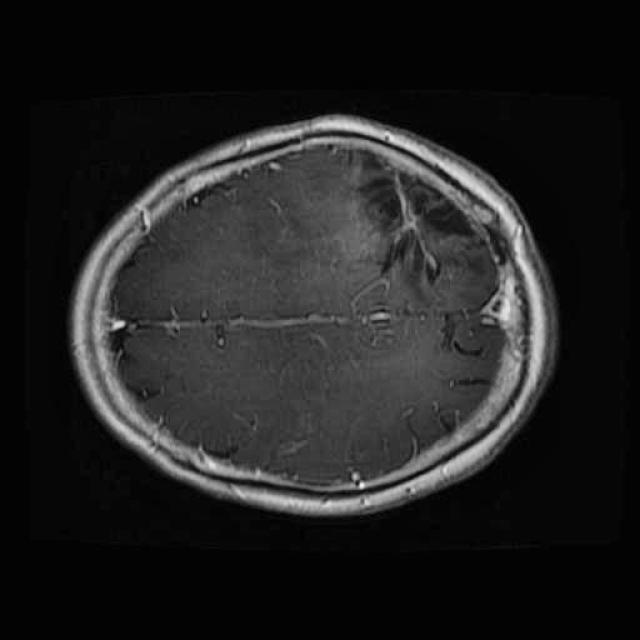Non-Tumor: (332, 136, 505, 300)
